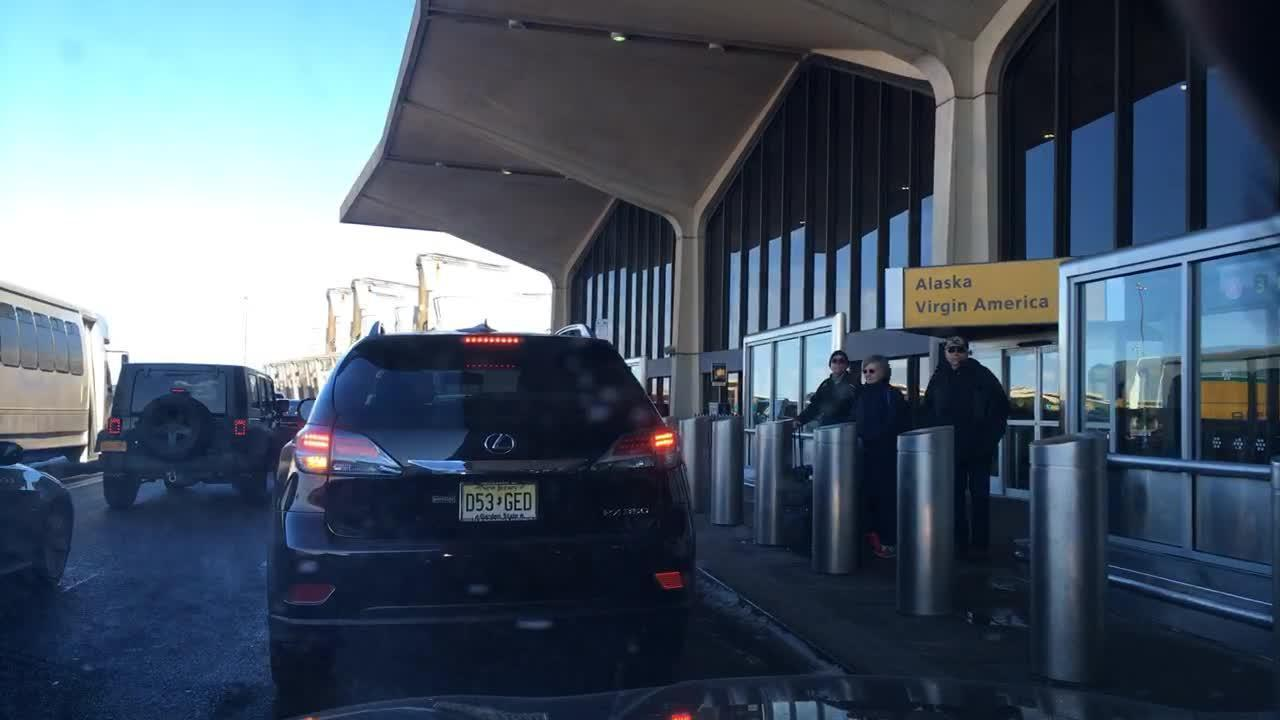lexus: (479, 429, 526, 458)
